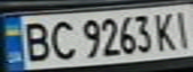2: (100, 15, 121, 57)
3: (133, 11, 154, 55)
6: (118, 14, 139, 56)
9: (75, 16, 103, 60)
B: (18, 19, 54, 63)
C: (45, 18, 78, 62)
I: (169, 7, 193, 50)
K: (151, 9, 181, 52)
